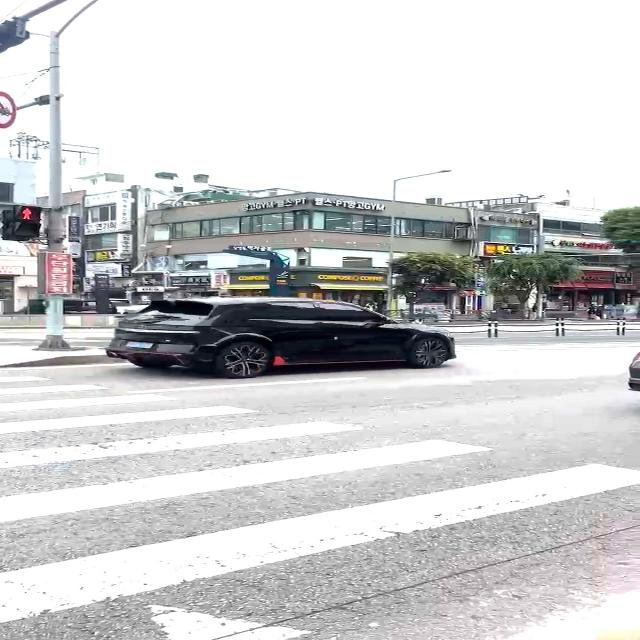building: (132, 188, 476, 320)
car: (104, 295, 456, 379)
